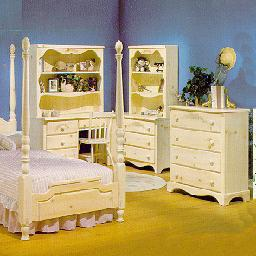Armario: (35, 44, 116, 159), (171, 109, 250, 207), (124, 47, 168, 167)
Cama: (3, 130, 127, 235)
